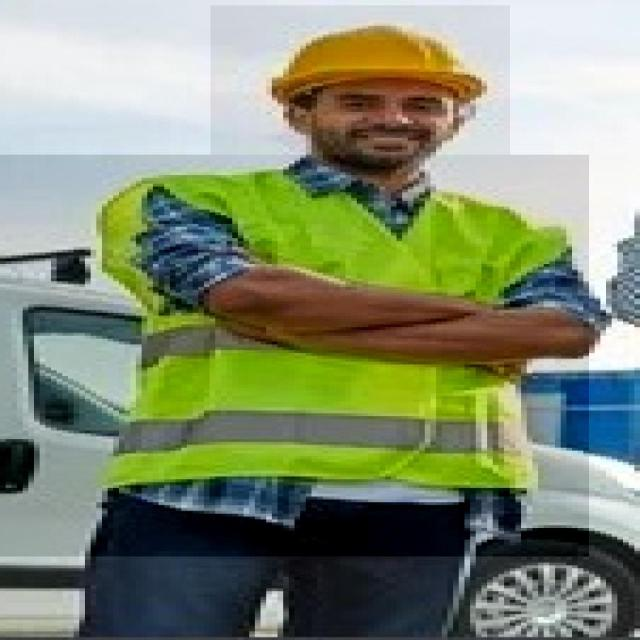Helmet: (210, 5, 510, 162)
Safety Vest: (0, 155, 589, 558)
